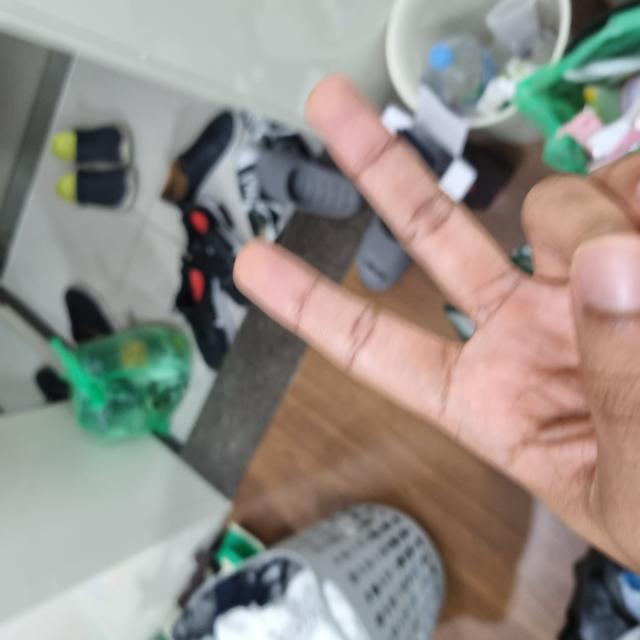Scissors: (37, 239, 562, 639)
